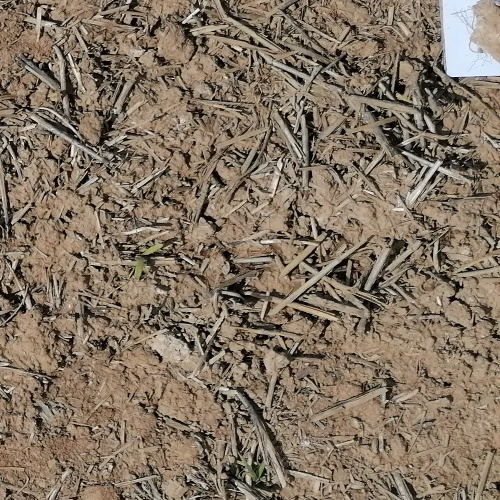beet: (134, 245, 163, 280)
